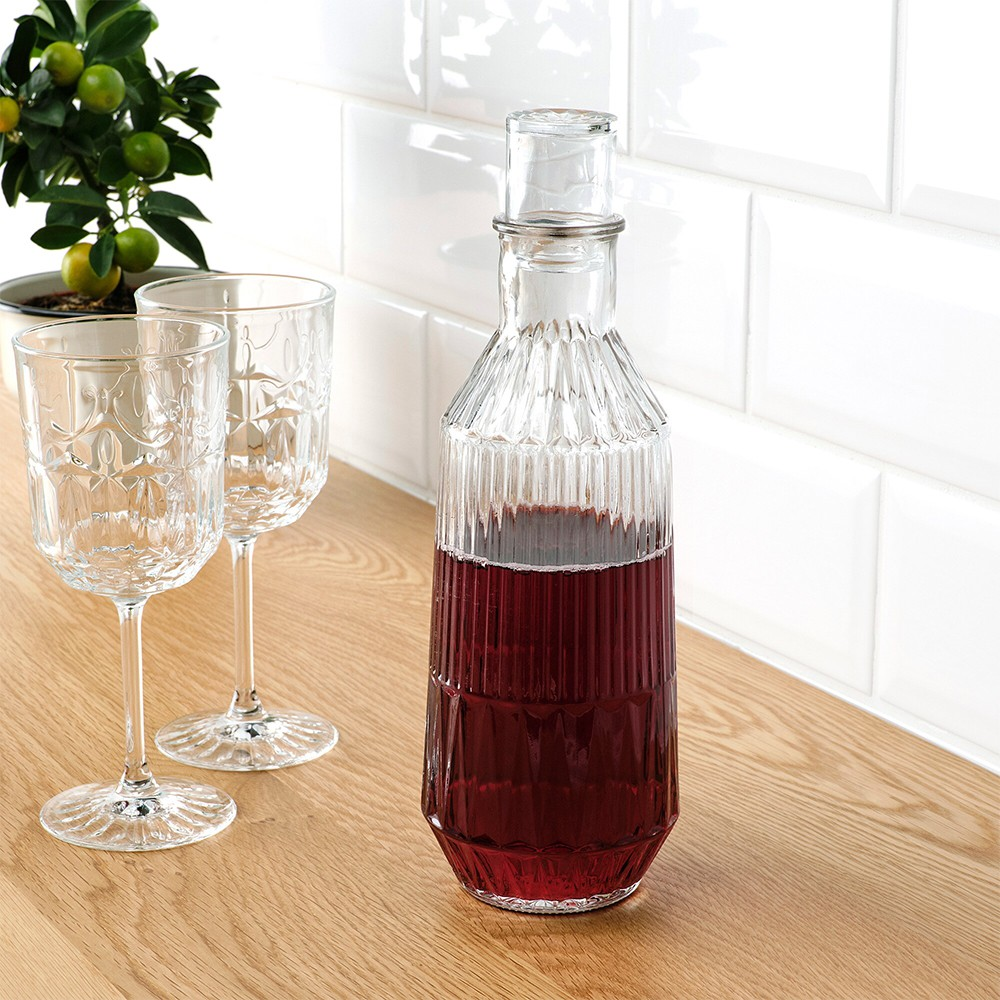glass_bottle: (401, 92, 701, 924)
